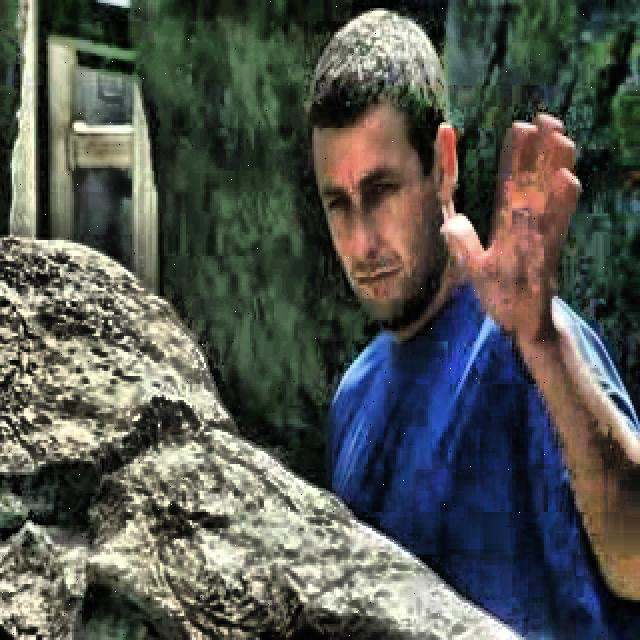L: (299, 2, 639, 640)
